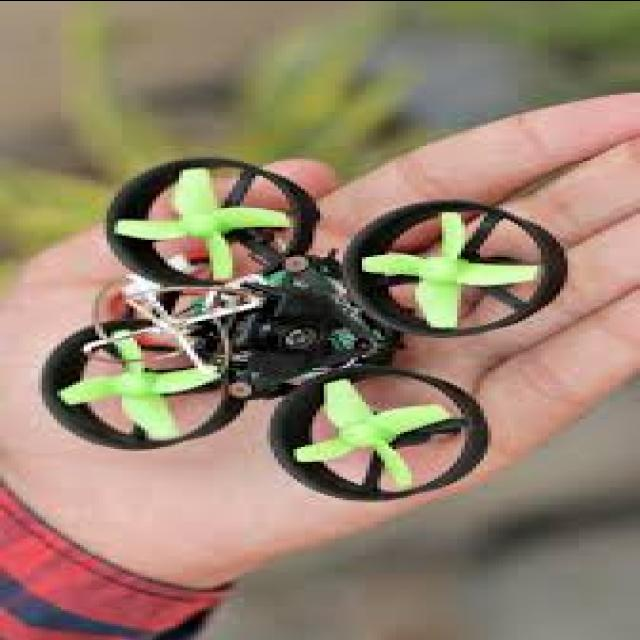drone: (41, 145, 565, 503)
